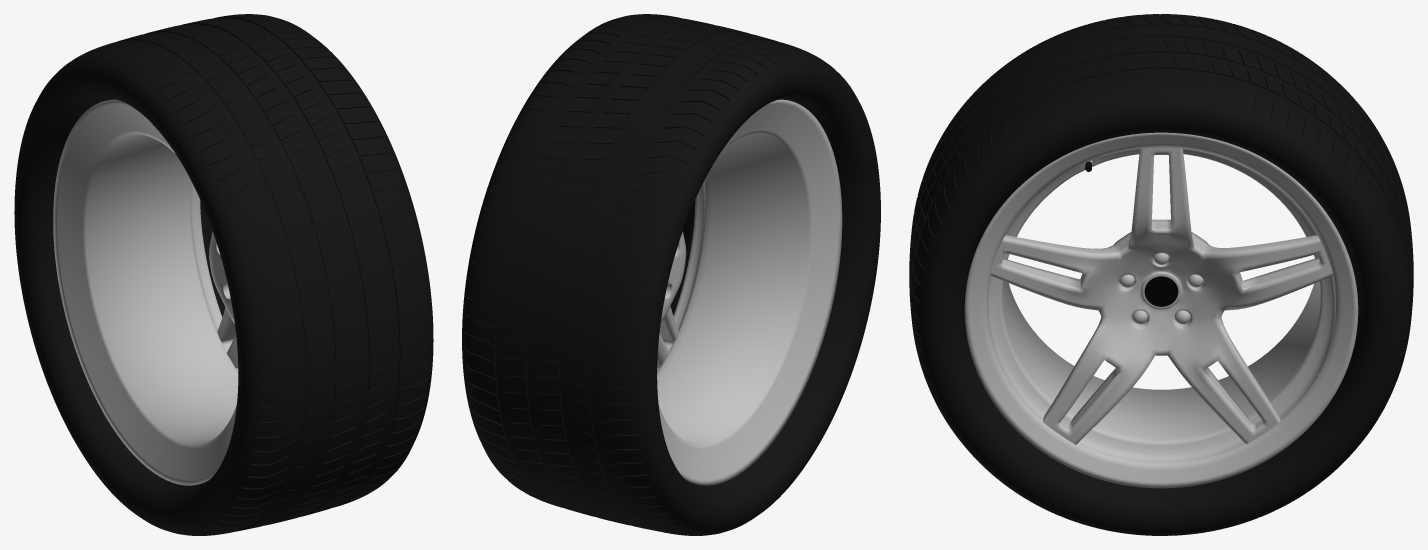
The picture shows the model from 3 angles, left to right: view 1: azimuth 30°, elevation 25°; view 2: azimuth 150°, elevation 25°; view 3: azimuth 270°, elevation 25°; orthographic projection.
Parts seen in each view (by area): view 1: tire, rim; view 2: tire, rim; view 3: tire, rim, wheel_rim_cap.
Part boxes in pixels (<box>): tire: <box>14,14,433,535</box>; rim: <box>53,99,238,485</box>; tire: <box>462,14,880,535</box>; rim: <box>657,99,842,485</box>; tire: <box>909,14,1413,535</box>; rim: <box>964,132,1358,488</box>; wheel_rim_cap: <box>1142,273,1180,308</box>.
Size of the model in its own units: 0.2994 by 0.6993 by 0.6994.
Materials: 1 (1 with a texture image).
